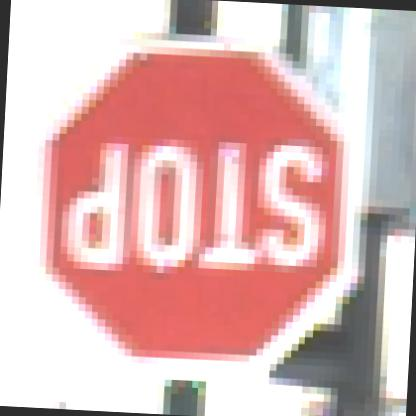stop: (18, 26, 384, 390)
